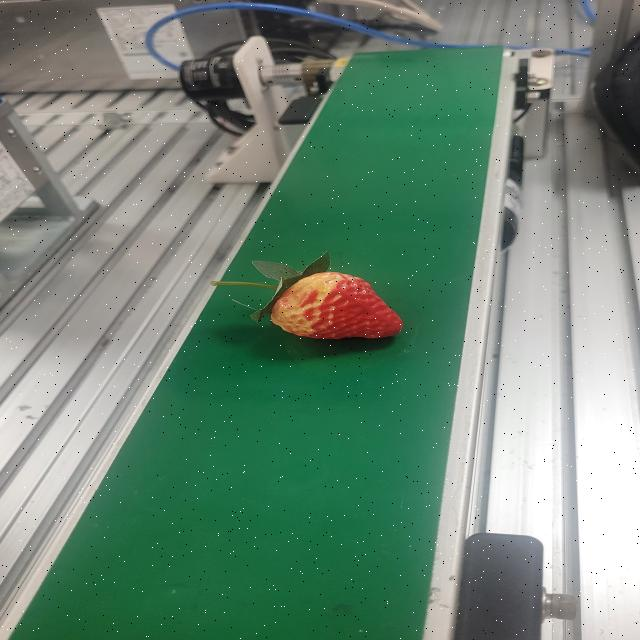Moldy Strawberry: (268, 270, 406, 342)
